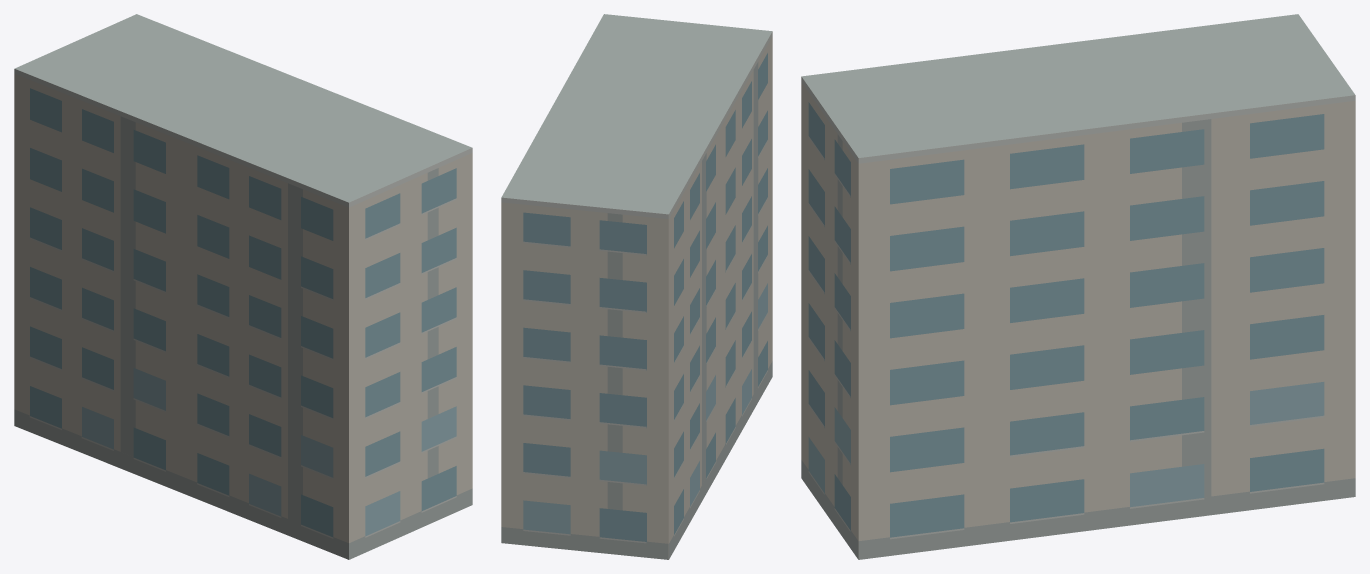
Rendered from survey-upis-32566070.glb.
3 renders of one model, left to right at view 1: azimuth 30°, elevation 25°; view 2: azimuth 150°, elevation 25°; view 3: azimuth 270°, elevation 25°, orthographic. The views are drawn at different scales.
Parts seen in each view (by area): view 1: survey-upis-32566070.tmp; view 2: survey-upis-32566070.tmp; view 3: survey-upis-32566070.tmp.
Boxes of the visible parts, x1=… form: survey-upis-32566070.tmp: x1=14, y1=14, x2=472, y2=559; survey-upis-32566070.tmp: x1=501, y1=14, x2=772, y2=559; survey-upis-32566070.tmp: x1=801, y1=14, x2=1355, y2=559.
Bounding box in the file's own units: 13.4 × 17.4 × 21.76.
